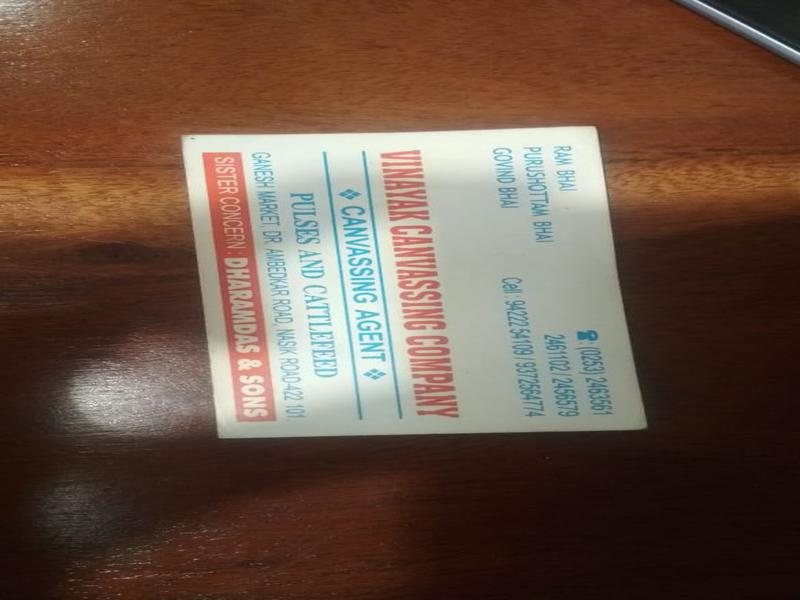card: (179, 124, 641, 441)
